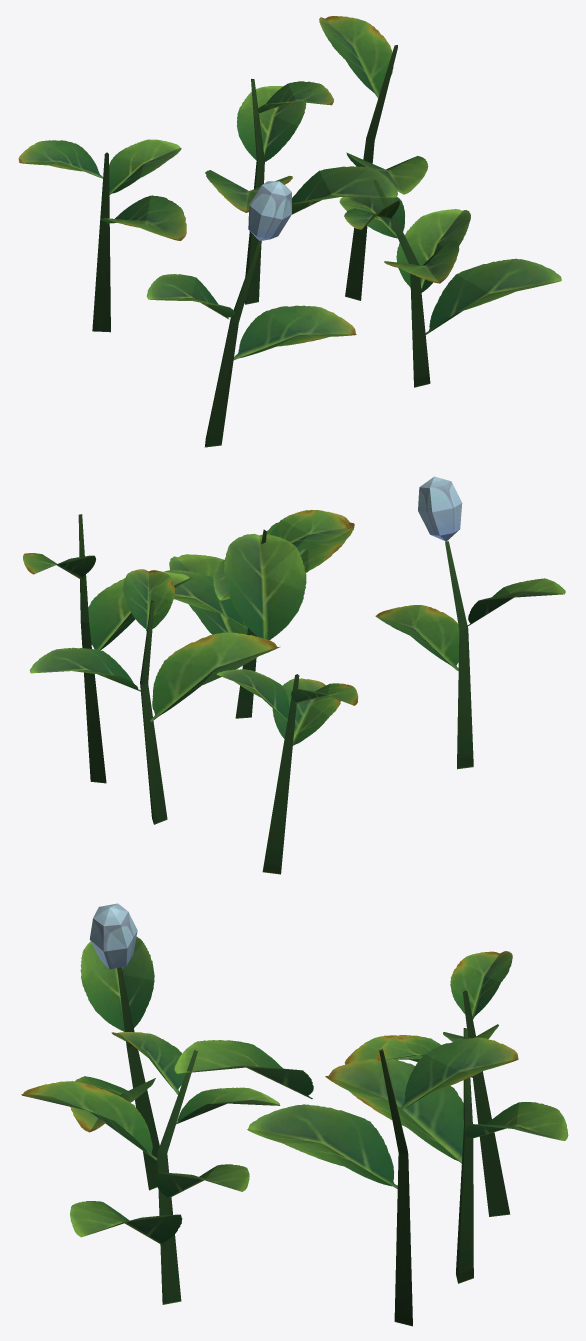
The model's file is P_Flowerchuju_01.obj.
3 renders of one model, top to bottom at view 1: azimuth 30°, elevation 25°; view 2: azimuth 150°, elevation 25°; view 3: azimuth 270°, elevation 25°, orthographic. The views are drawn at different scales.
Size of the model in its own units: 0.624 by 0.3898 by 0.6338.
1 material, 1 textured.
